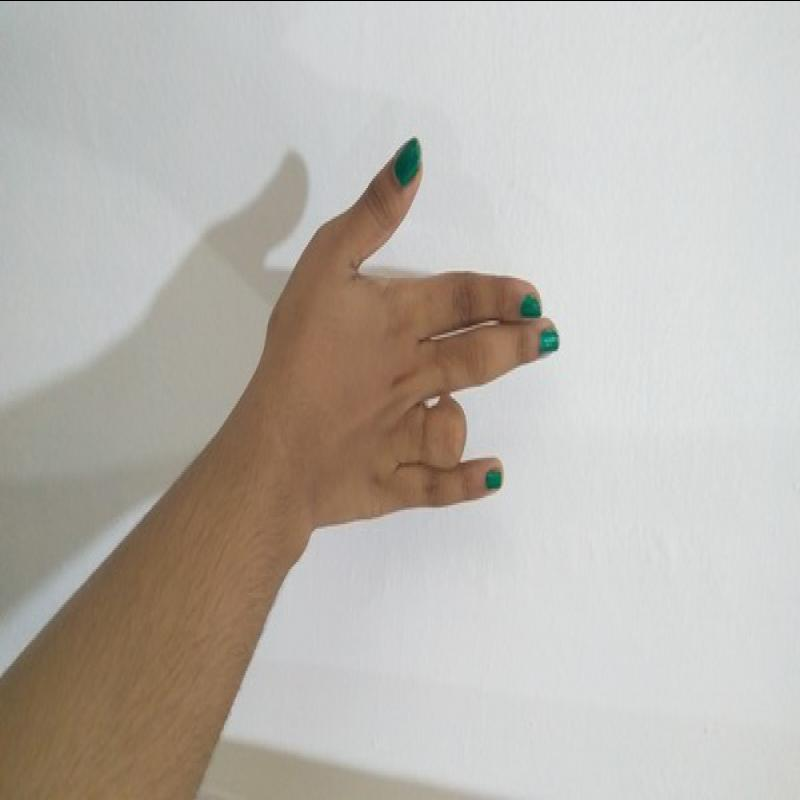Pathaaka: (270, 123, 568, 534)
